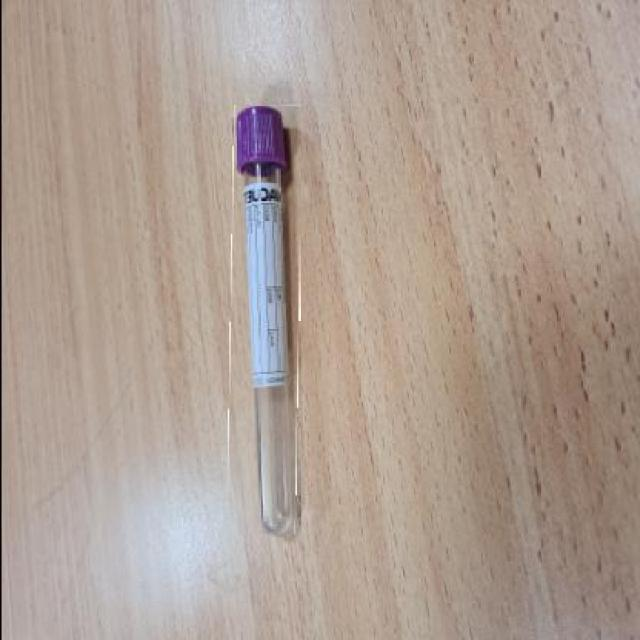Experimental-tube: (228, 104, 298, 536)
